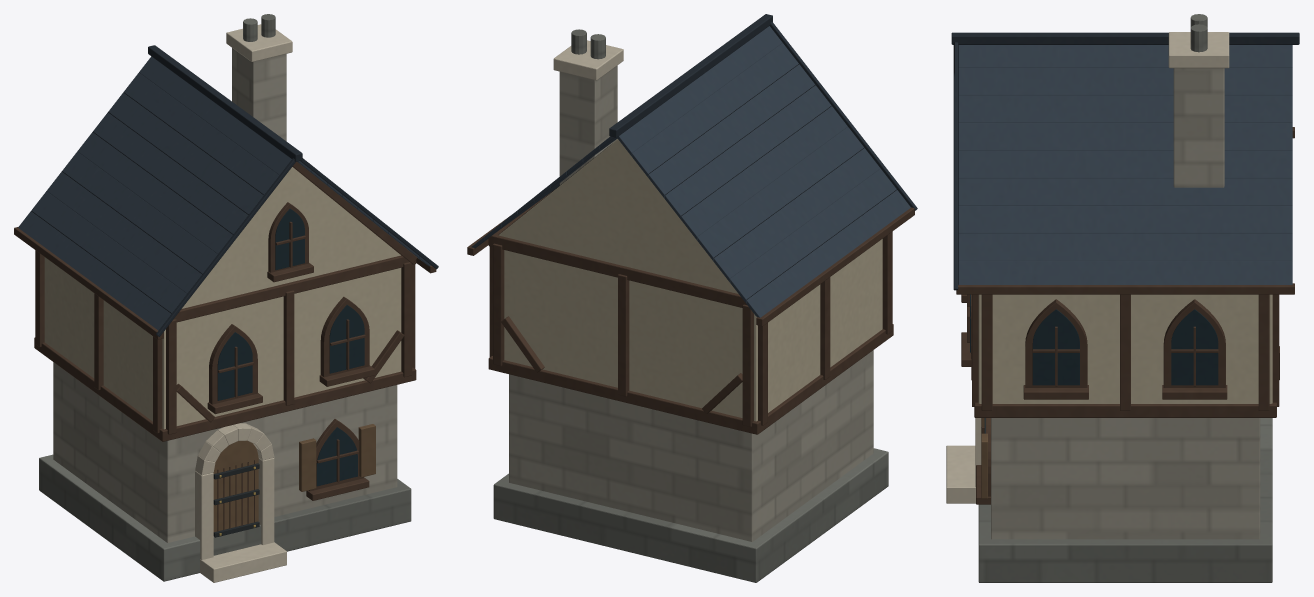
Rendered from Fantasy_House.fbx.
3 renders of one model, left to right at view 1: azimuth 30°, elevation 25°; view 2: azimuth 150°, elevation 25°; view 3: azimuth 270°, elevation 25°, orthographic. The views are drawn at different scales.
Visible parts, largest first — view 1: Fantasy_House.001; view 2: Fantasy_House.001; view 3: Fantasy_House.001.
Boxes of the visible parts, x1,y1,x2,y2 form: Fantasy_House.001: (14, 14, 438, 582); Fantasy_House.001: (467, 14, 917, 582); Fantasy_House.001: (946, 14, 1299, 582).
Size of the model in its own units: 6.24 by 9.49 by 5.76.
